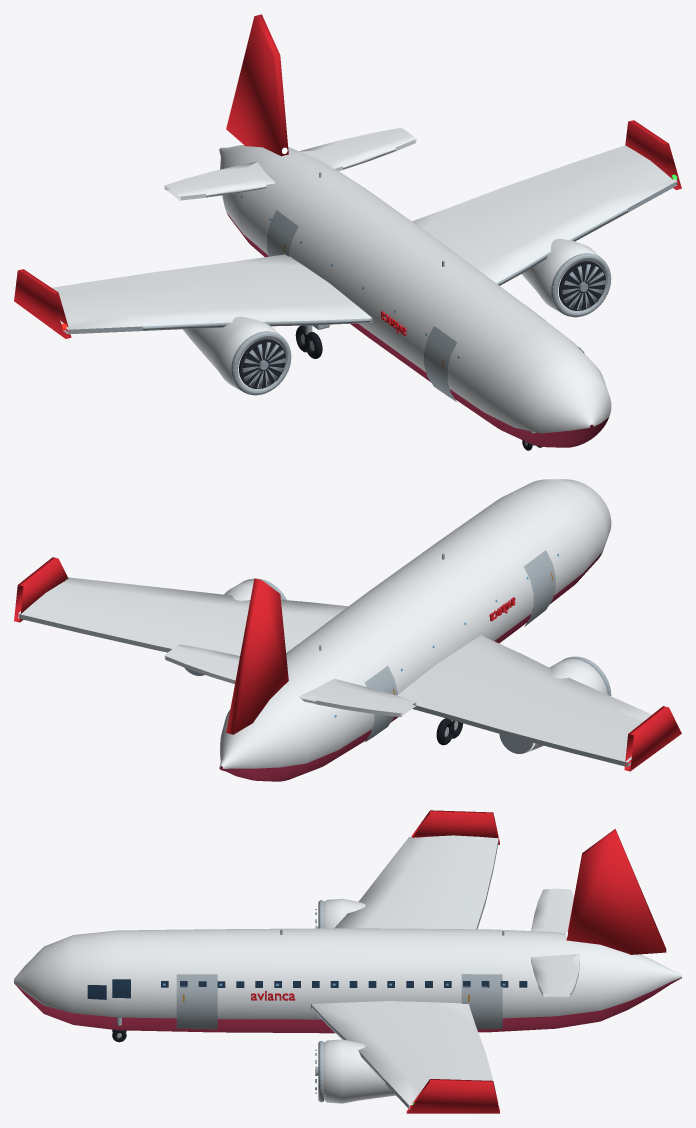
The model's file is airline-avianca.glb.
3 views of the same model, one above another, from view 1: azimuth 30°, elevation 25°; view 2: azimuth 150°, elevation 25°; view 3: azimuth 270°, elevation 25° (orthographic). The views are drawn at different scales.
Parts seen in each view (by area): view 1: airline-avianca Static Batch; view 2: airline-avianca Static Batch; view 3: airline-avianca Static Batch.
Part boxes in pixels (x1,y1,x2,y2): airline-avianca Static Batch: (14, 14, 681, 450); airline-avianca Static Batch: (14, 479, 681, 781); airline-avianca Static Batch: (14, 810, 681, 1113).
Size of the model in its own units: 11.56 by 4.18 by 12.04.
